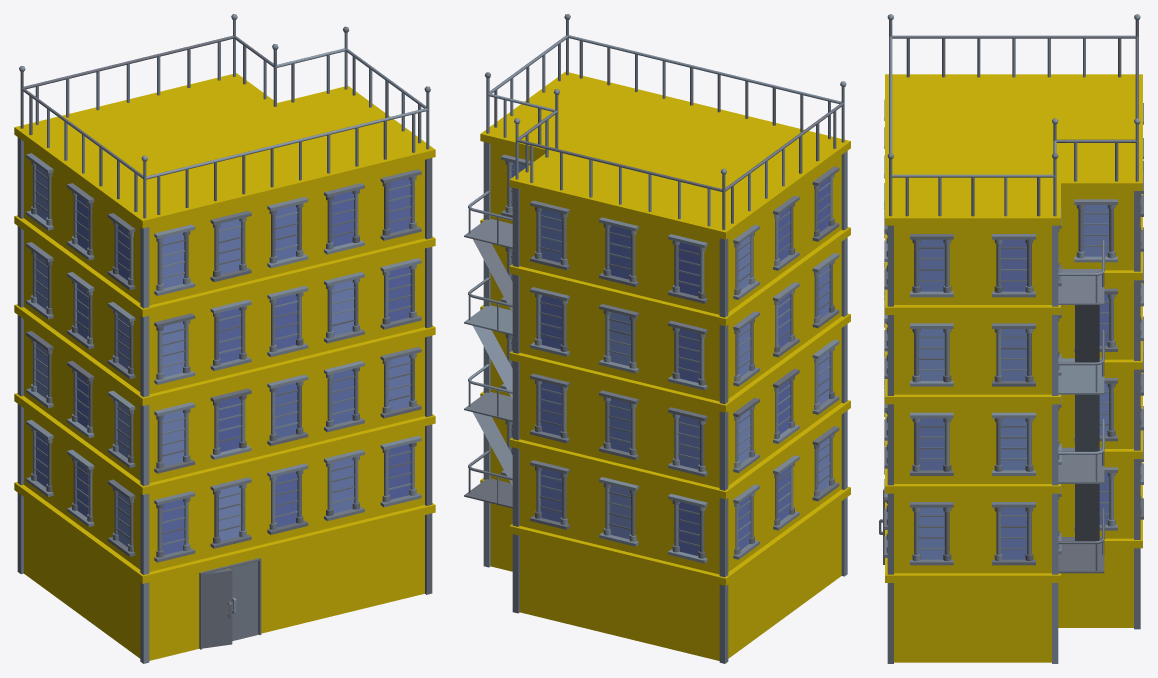
The model's file is Building Procedural.005.fbx.
3 renders of one model, left to right at view 1: azimuth 30°, elevation 25°; view 2: azimuth 150°, elevation 25°; view 3: azimuth 270°, elevation 25°, orthographic. The views are drawn at different scales.
Parts seen in each view (by area): view 1: Building Procedural.005; view 2: Building Procedural.005; view 3: Building Procedural.005.
Part boxes in pixels (box(x1,y1,x2,y2)): Building Procedural.005: box(14, 14, 435, 663); Building Procedural.005: box(464, 14, 850, 663); Building Procedural.005: box(879, 14, 1143, 663).
Size of the model in its own units: 1040 by 1710 by 806.
